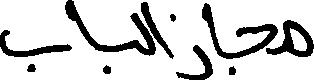X: (0, 0, 68, 76), (175, 2, 203, 79), (236, 19, 275, 62), (70, 0, 95, 54), (285, 15, 313, 61), (205, 0, 220, 79), (152, 9, 173, 63), (140, 0, 150, 60), (134, 8, 138, 55)
